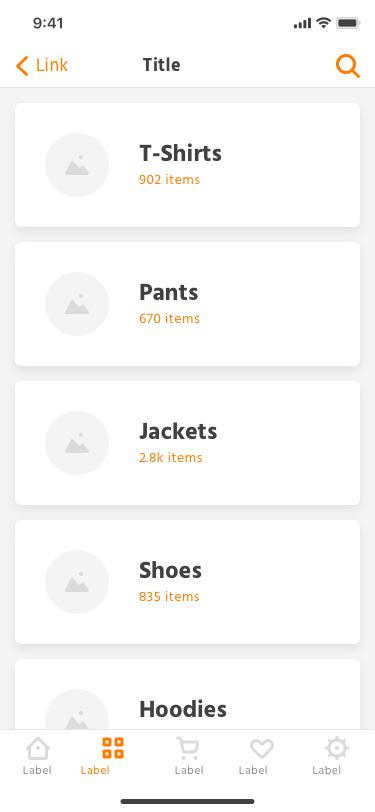Card: (15, 103, 361, 229), (15, 520, 361, 645), (15, 381, 361, 506), (15, 242, 361, 367), (15, 658, 361, 729)
Icon: (335, 54, 361, 80), (25, 735, 51, 761), (174, 735, 200, 761), (324, 736, 350, 762), (101, 736, 126, 760), (249, 738, 274, 759), (16, 56, 30, 78)
Image: (44, 271, 110, 338), (45, 132, 110, 199), (45, 411, 110, 477), (45, 549, 110, 615), (45, 688, 111, 730)
Text: (138, 697, 228, 718), (139, 143, 223, 163), (139, 421, 219, 441), (139, 560, 203, 579), (140, 283, 200, 302), (139, 451, 204, 464), (138, 312, 201, 325), (138, 590, 201, 603), (139, 175, 201, 186), (143, 58, 181, 73), (37, 58, 69, 73), (22, 763, 54, 776), (174, 763, 205, 776), (80, 763, 110, 776), (238, 764, 268, 776), (313, 764, 342, 775)
UpperTaskBar: (32, 16, 362, 31)
